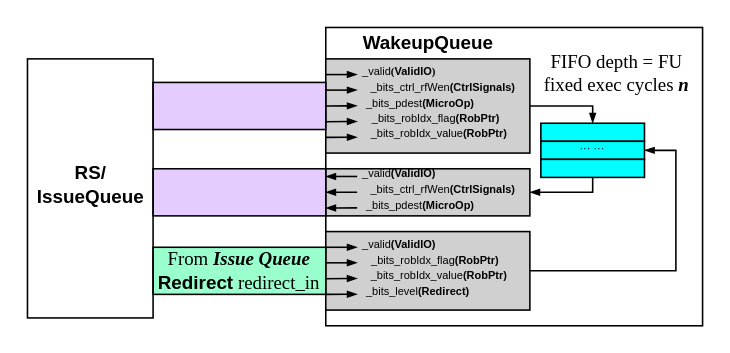
Image size: 730x353. Some labels were removed from this diagram. Each missing label, with the centre of its shape:
"From Issue Queue MicroOp io_in" belongs at pixel 239 105.
"To Issue Queue MicroOp io_out" belongs at pixel 239 191.
